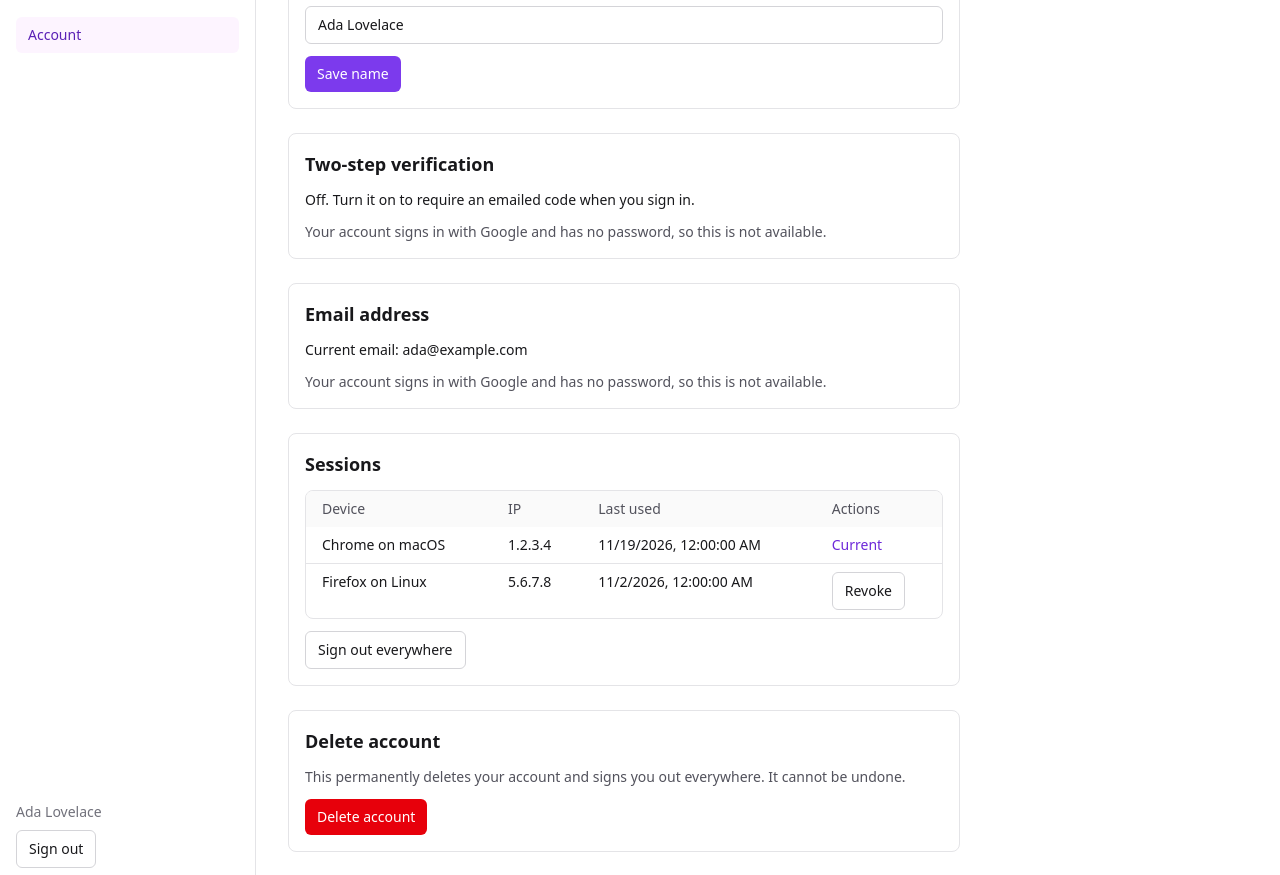
Test case: account › delete account reauth_required shows the Google re-auth prompt
The image size is (1280, 875).
(page scrolled)
Click the button "Delete account".
click(366, 817)  # box [305,799,427,835]
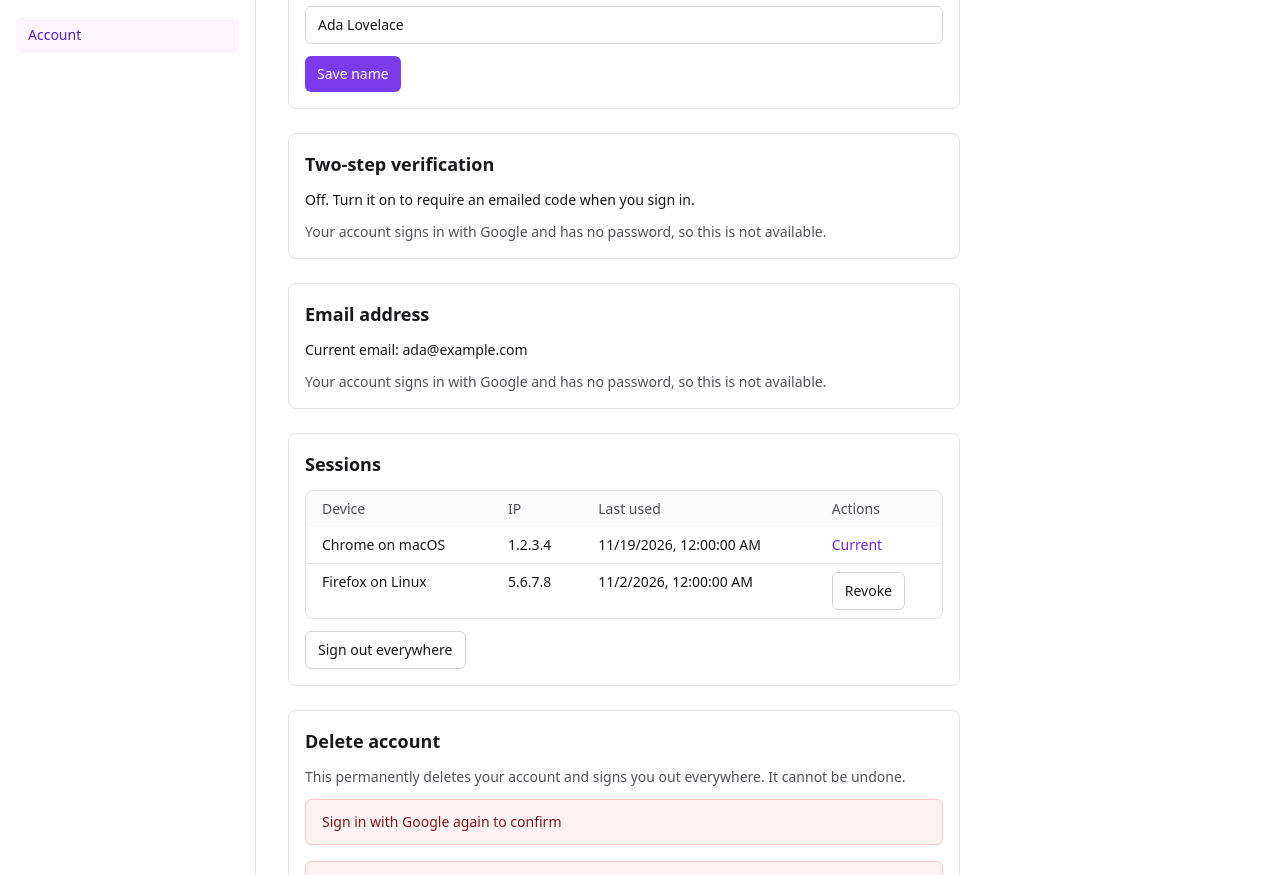
Now the text "Sign in with Google again to confirm" is shown, box [305,799,943,845]
